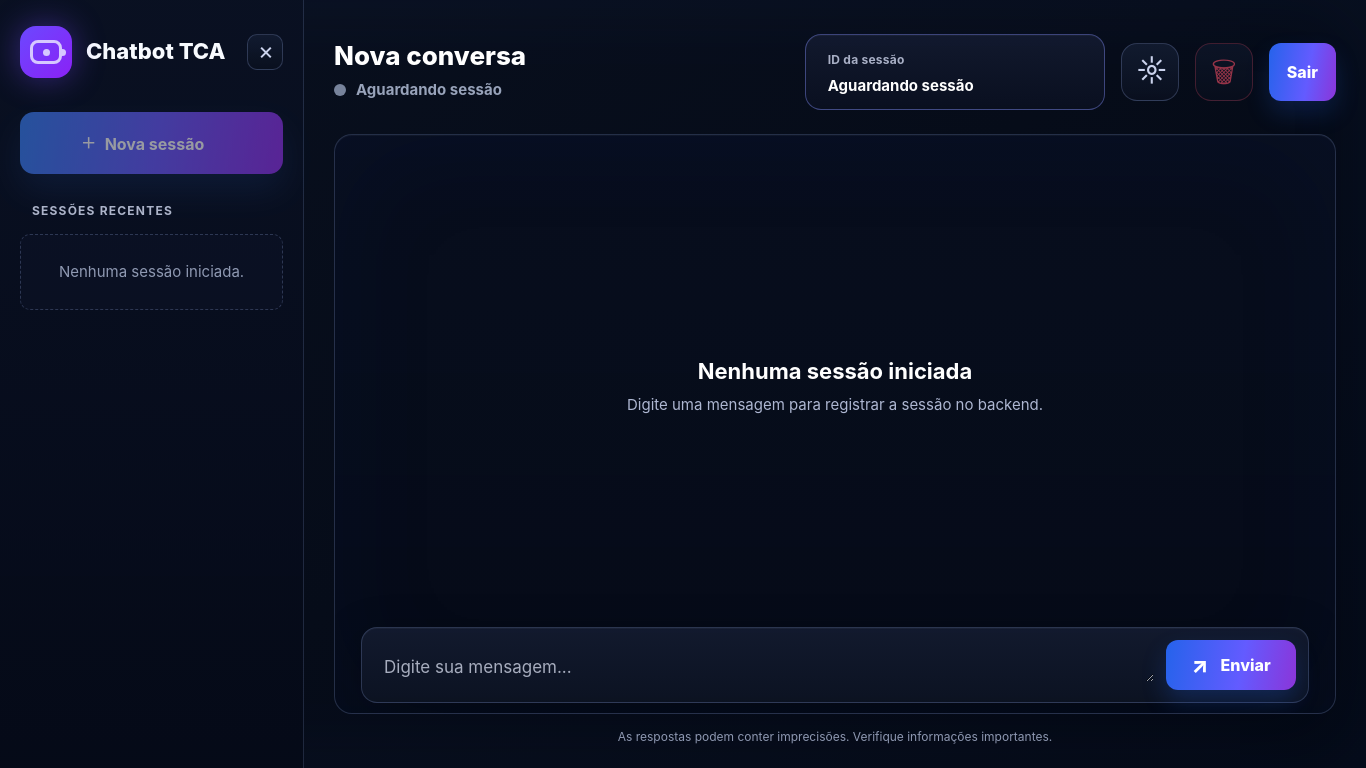
Test: ChatBox › sends the first message and replaces the draft session with the backend session
Type "Oi chatbot" into the text box with placeholder "Digite sua mensagem..." at (768, 668), box [382,653,1154,682]
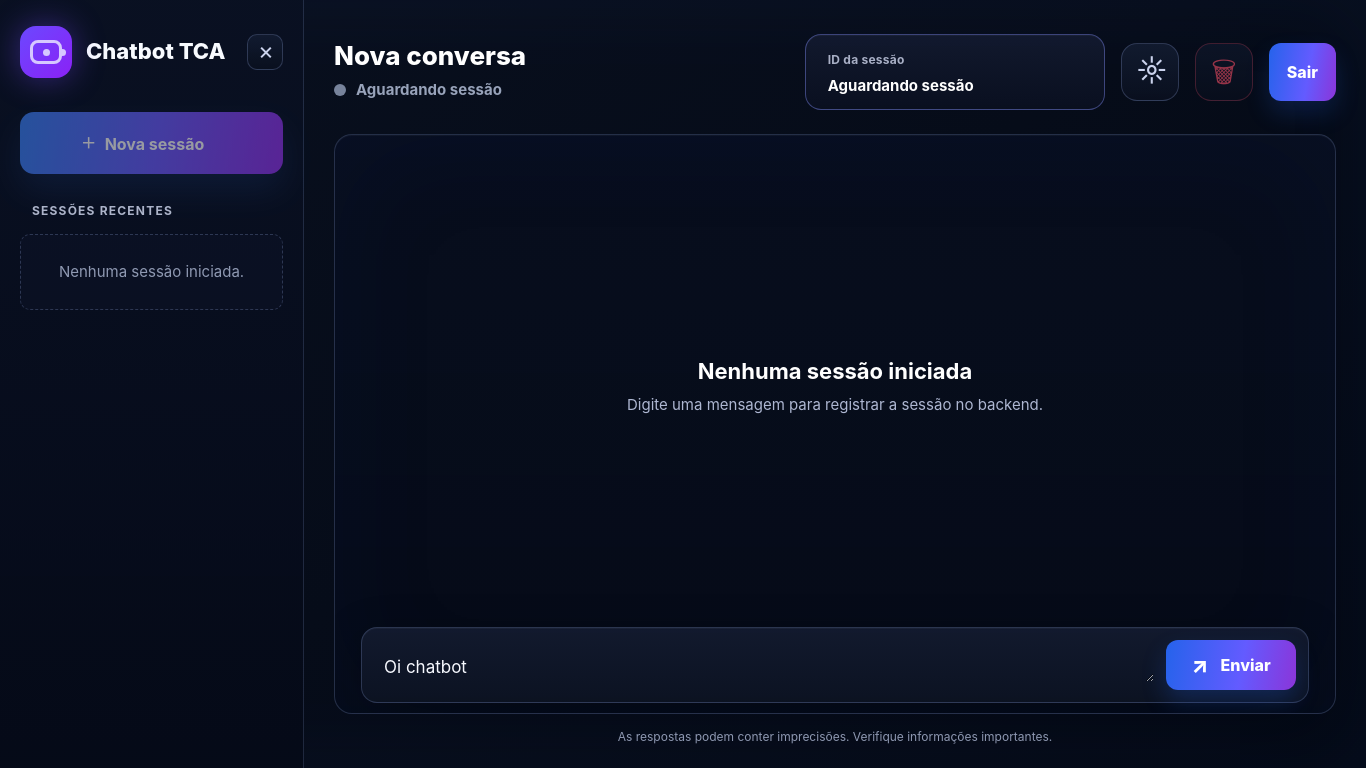
Click the button "↗ Enviar" at (1231, 665), box [1166,640,1296,690]
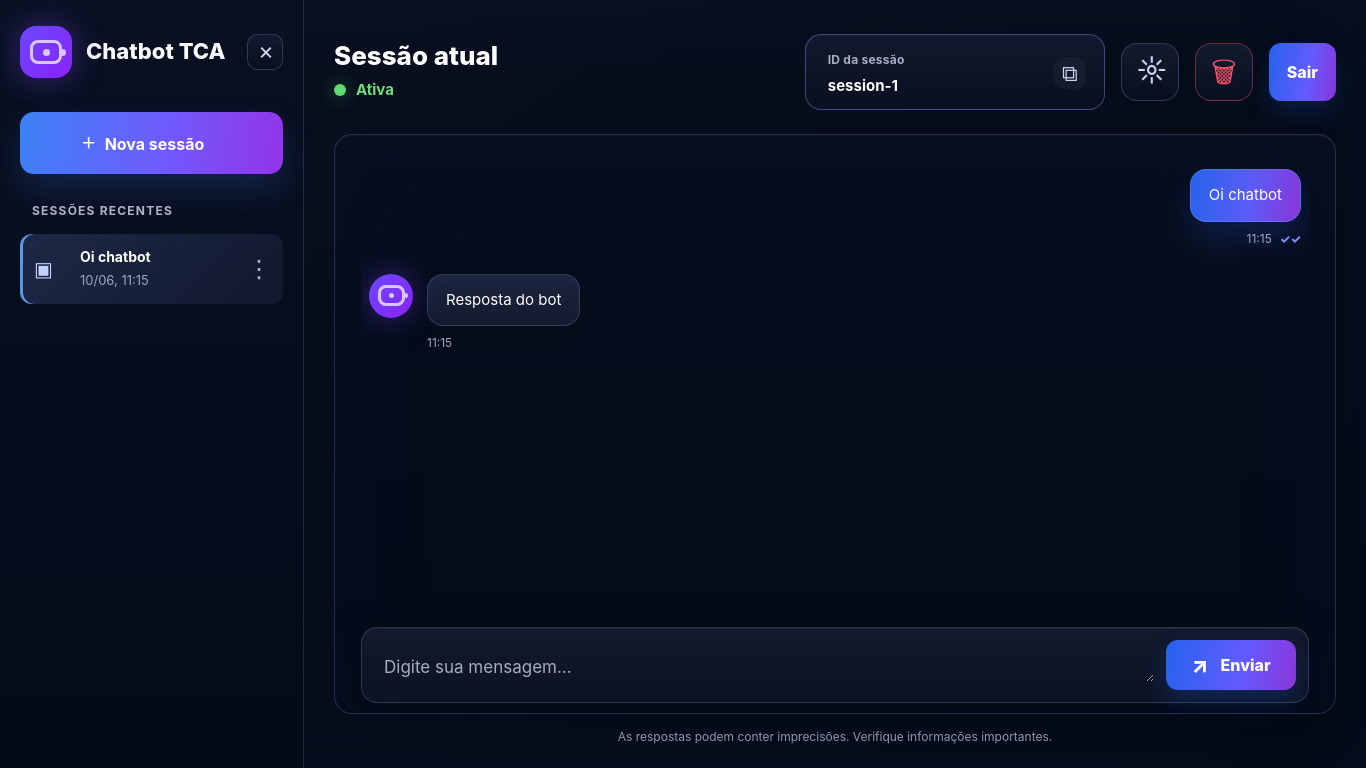
Expected: the text "Oi chatbot" is shown 2 times, [80,248,151,264]; [1190,169,1301,222]
Expected: the text "Resposta do bot" is shown, [446,288,561,311]
Expected: the text "session-1" is shown, [828,76,898,95]
